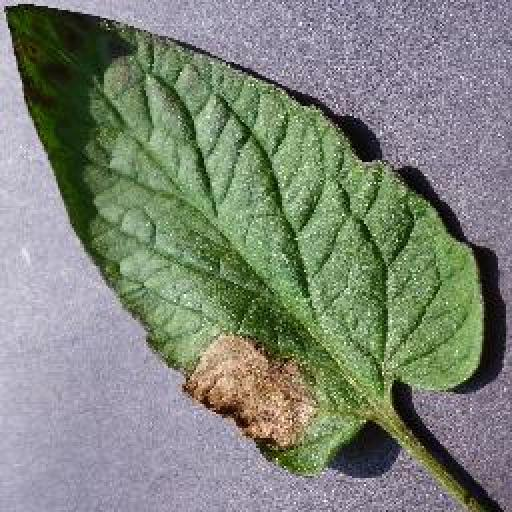disease_tomato: (2, 0, 488, 474)
